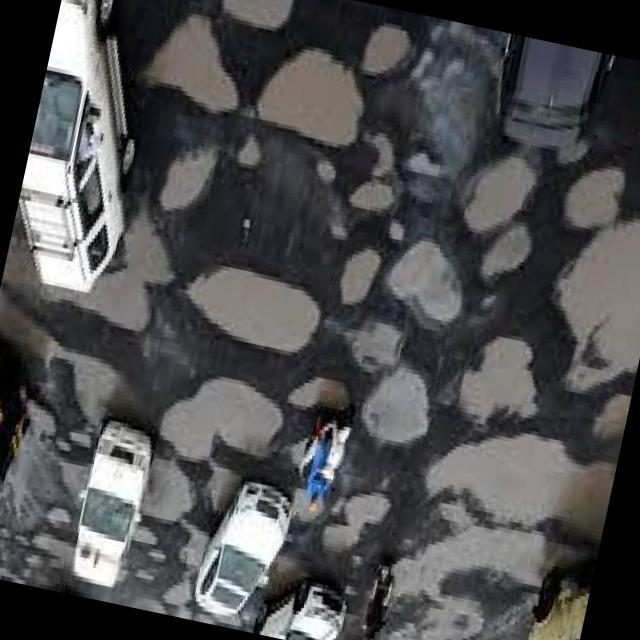pothole: (384, 498, 576, 640), (426, 433, 615, 541), (58, 205, 180, 333), (556, 219, 640, 393), (185, 271, 323, 351), (253, 50, 365, 144), (145, 9, 236, 113), (162, 381, 279, 459), (452, 334, 541, 426), (386, 237, 464, 325), (463, 152, 544, 232), (363, 365, 426, 447), (135, 456, 192, 525), (320, 495, 389, 550), (569, 165, 625, 229), (166, 147, 220, 209), (360, 22, 411, 74), (353, 313, 399, 369), (479, 222, 524, 276), (338, 250, 379, 303), (590, 392, 631, 441), (221, 0, 295, 27), (287, 381, 349, 412), (179, 520, 209, 569), (353, 180, 390, 210), (163, 575, 193, 607), (126, 514, 154, 547)
